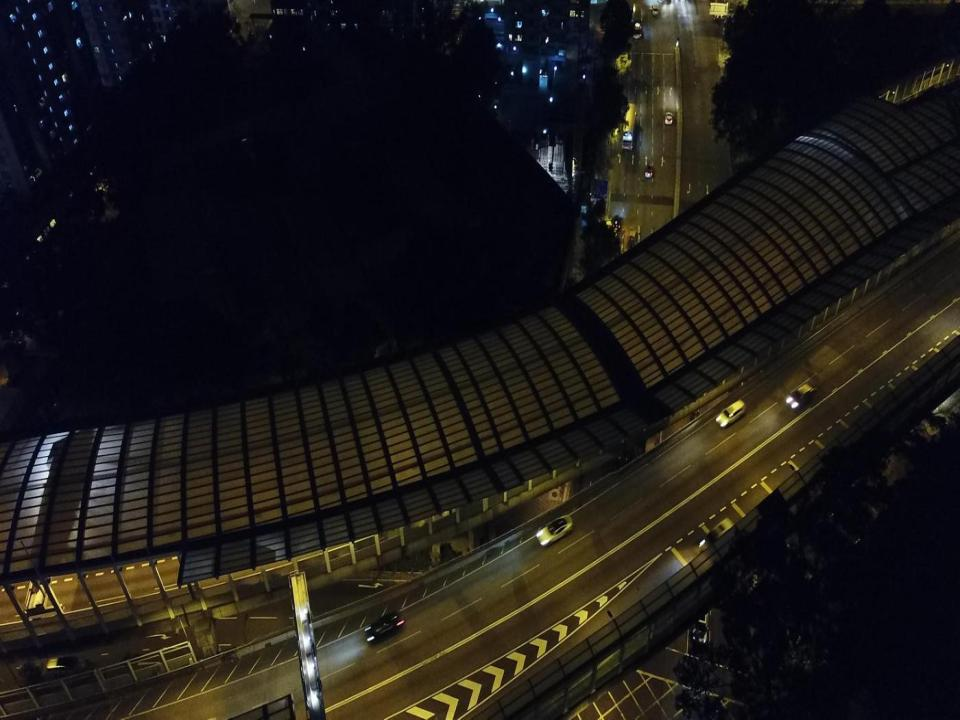bus: (631, 1, 643, 40)
car: (364, 610, 405, 644), (536, 514, 573, 546), (705, 516, 735, 550), (715, 398, 746, 428), (46, 655, 88, 675), (690, 603, 709, 645), (787, 383, 814, 409), (610, 215, 622, 232), (644, 164, 654, 179), (664, 112, 674, 125)
truck: (621, 103, 637, 151)
van: (651, 4, 659, 16)
